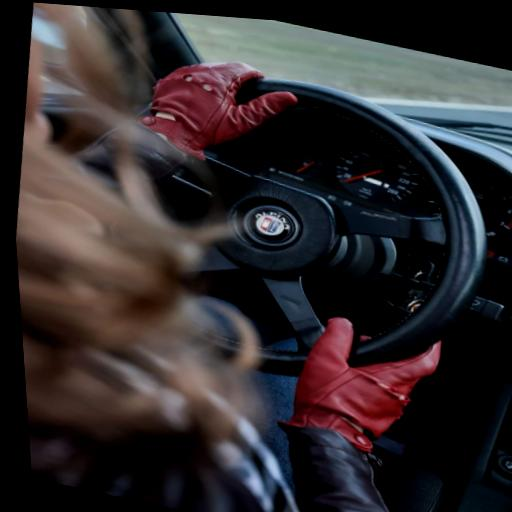Hands-on-the-Wheel: (258, 282, 466, 465), (101, 19, 329, 178)
